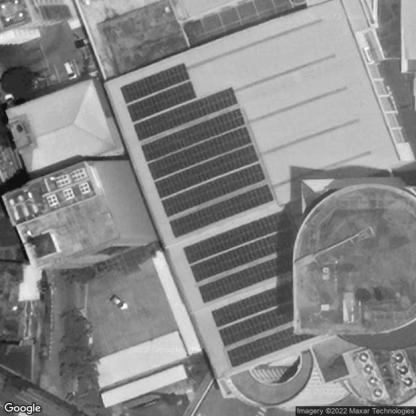solar-pv-panel: (120, 63, 274, 241), (182, 209, 298, 304), (211, 283, 314, 367)
